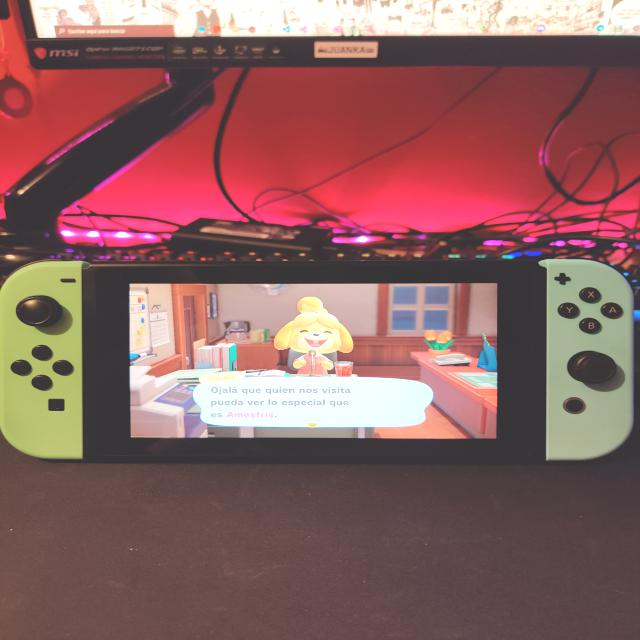text_bubble: (194, 370, 437, 429)
